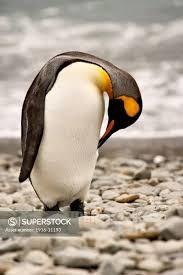king: (8, 44, 149, 218)
